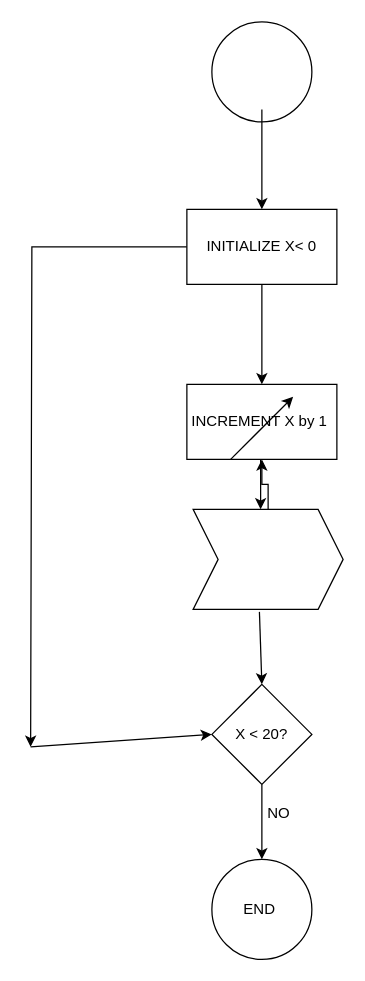
Some shapes in this 365 by 981 pixel diagram are drawn without their labels. The centre of each missing label's shape, as x and y in pixels:
"PIRNT X" goes at (x=267, y=558).
"START" goes at (x=261, y=71).
